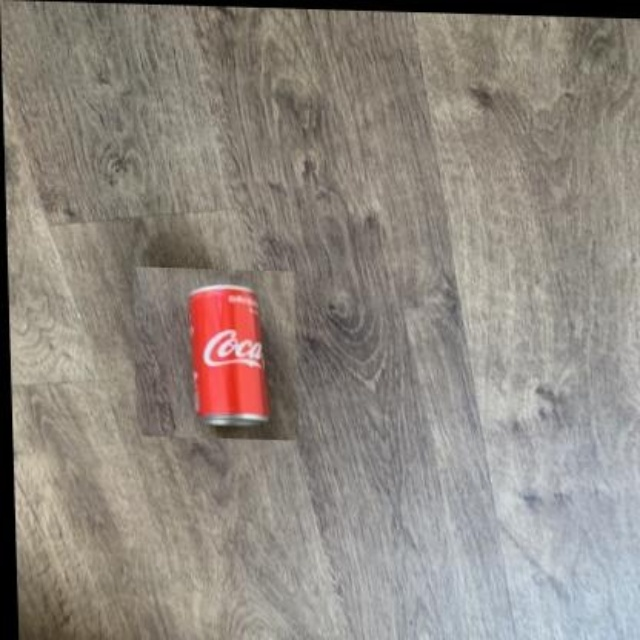trash: (189, 285, 268, 425)
